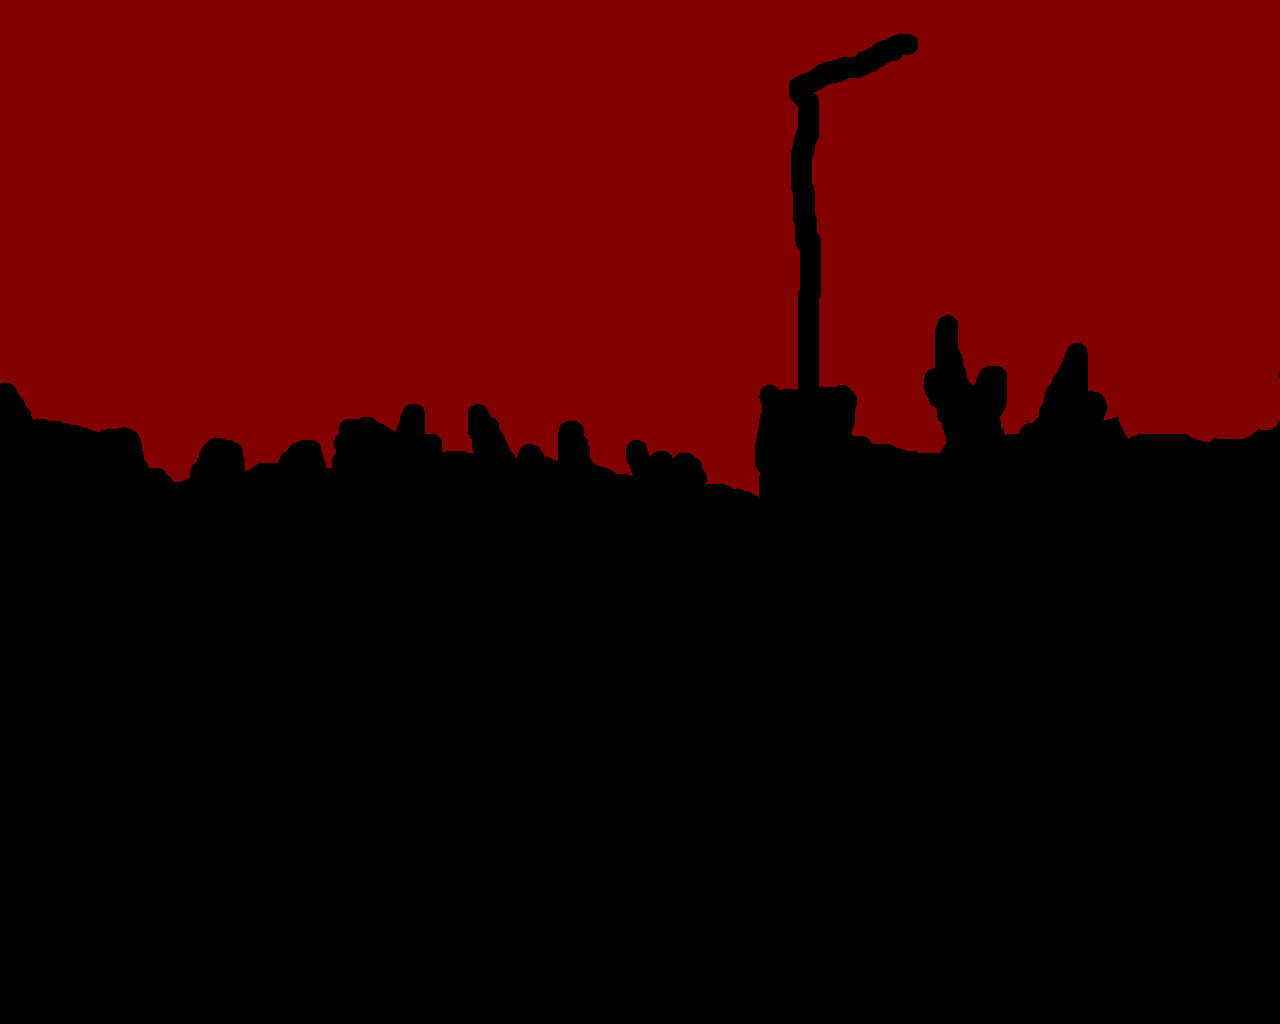Sky: (1, 1, 1279, 497)
